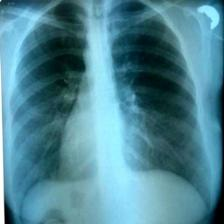tuberculosis: (5, 0, 212, 224)
